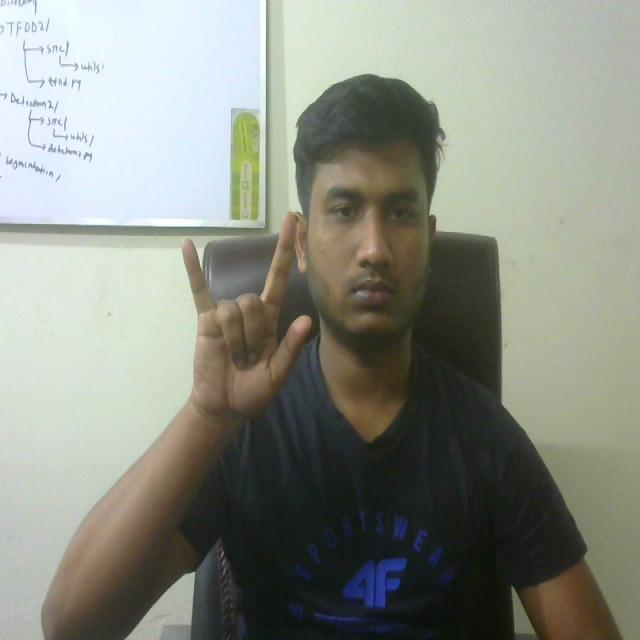I Love You: (162, 203, 318, 444)
